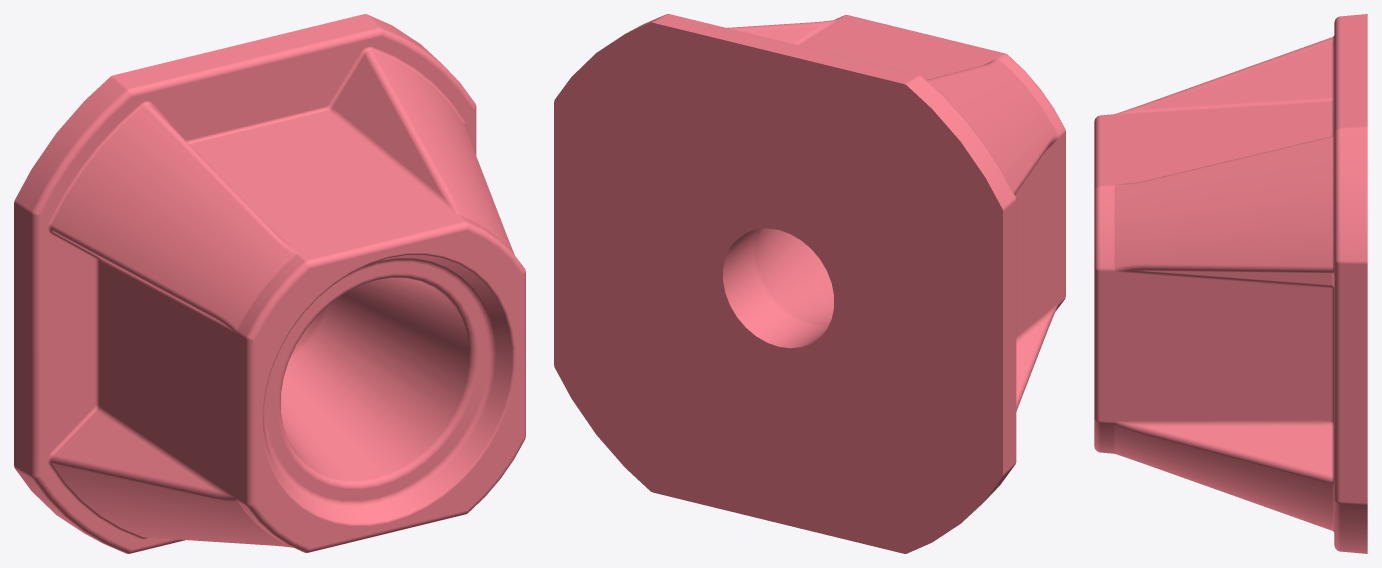
The model's file is red_goal.gltf.
3 views of the same model, side by side, from view 1: azimuth 30°, elevation 25°; view 2: azimuth 150°, elevation 25°; view 3: azimuth 270°, elevation 25° (orthographic). The views are drawn at different scales.
Parts seen in each view (by area): view 1: Goal; view 2: Goal; view 3: Goal.
Boxes of the visible parts, x1=… form: Goal: x1=14, y1=14, x2=525, y2=553; Goal: x1=554, y1=14, x2=1065, y2=553; Goal: x1=1094, y1=14, x2=1367, y2=553.
Bounding box in the file's own units: 0.1425 × 0.1425 × 0.0825.
